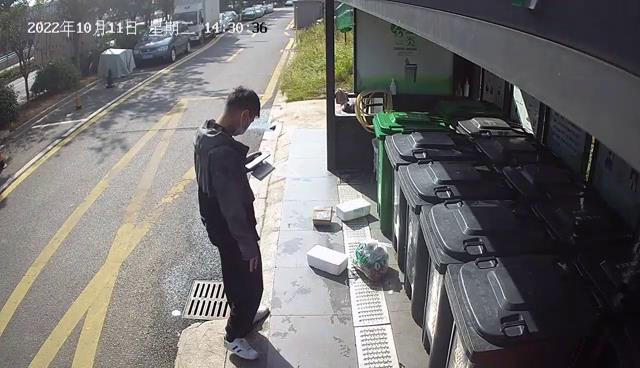person: (191, 84, 276, 359)
suliaozhipin: (351, 238, 394, 282)
zhizhipin: (306, 242, 349, 277), (335, 197, 372, 220), (311, 204, 333, 224)
